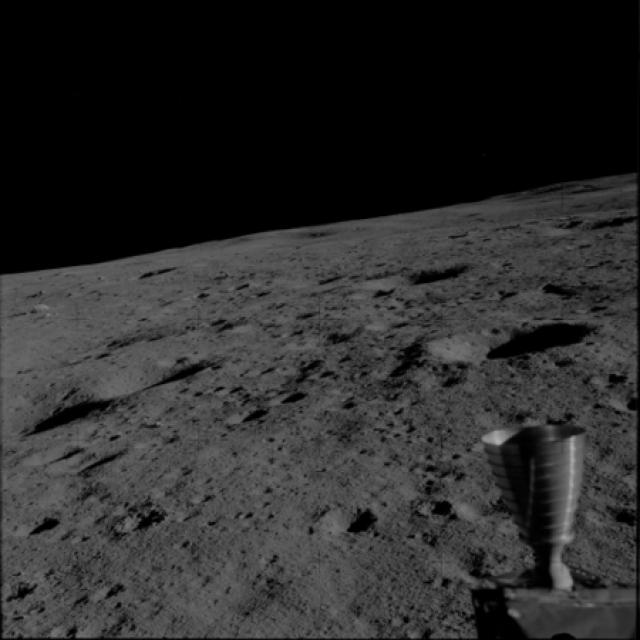crater: (417, 314, 610, 369), (0, 371, 106, 457), (99, 350, 217, 412), (354, 252, 474, 298), (2, 507, 82, 550), (109, 492, 177, 540), (320, 498, 378, 542), (0, 570, 45, 613), (223, 399, 275, 431), (410, 494, 459, 526), (583, 366, 632, 394), (340, 288, 406, 308), (531, 278, 581, 302), (275, 383, 318, 408), (480, 285, 522, 304), (300, 303, 324, 324)
